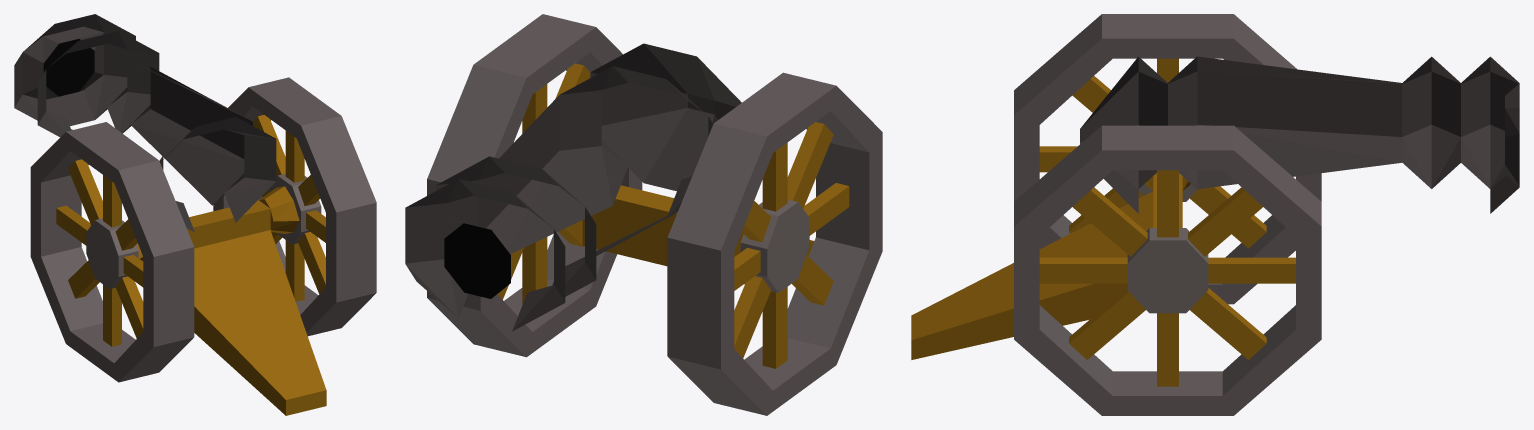
The model's file is obj_cannon_0.obj.
The picture shows the model from 3 angles, left to right: view 1: azimuth 30°, elevation 25°; view 2: azimuth 150°, elevation 25°; view 3: azimuth 270°, elevation 25°; orthographic projection. The views are drawn at different scales.
Bounding box in the file's own units: 0.6875 × 0.6562 × 1.3.
